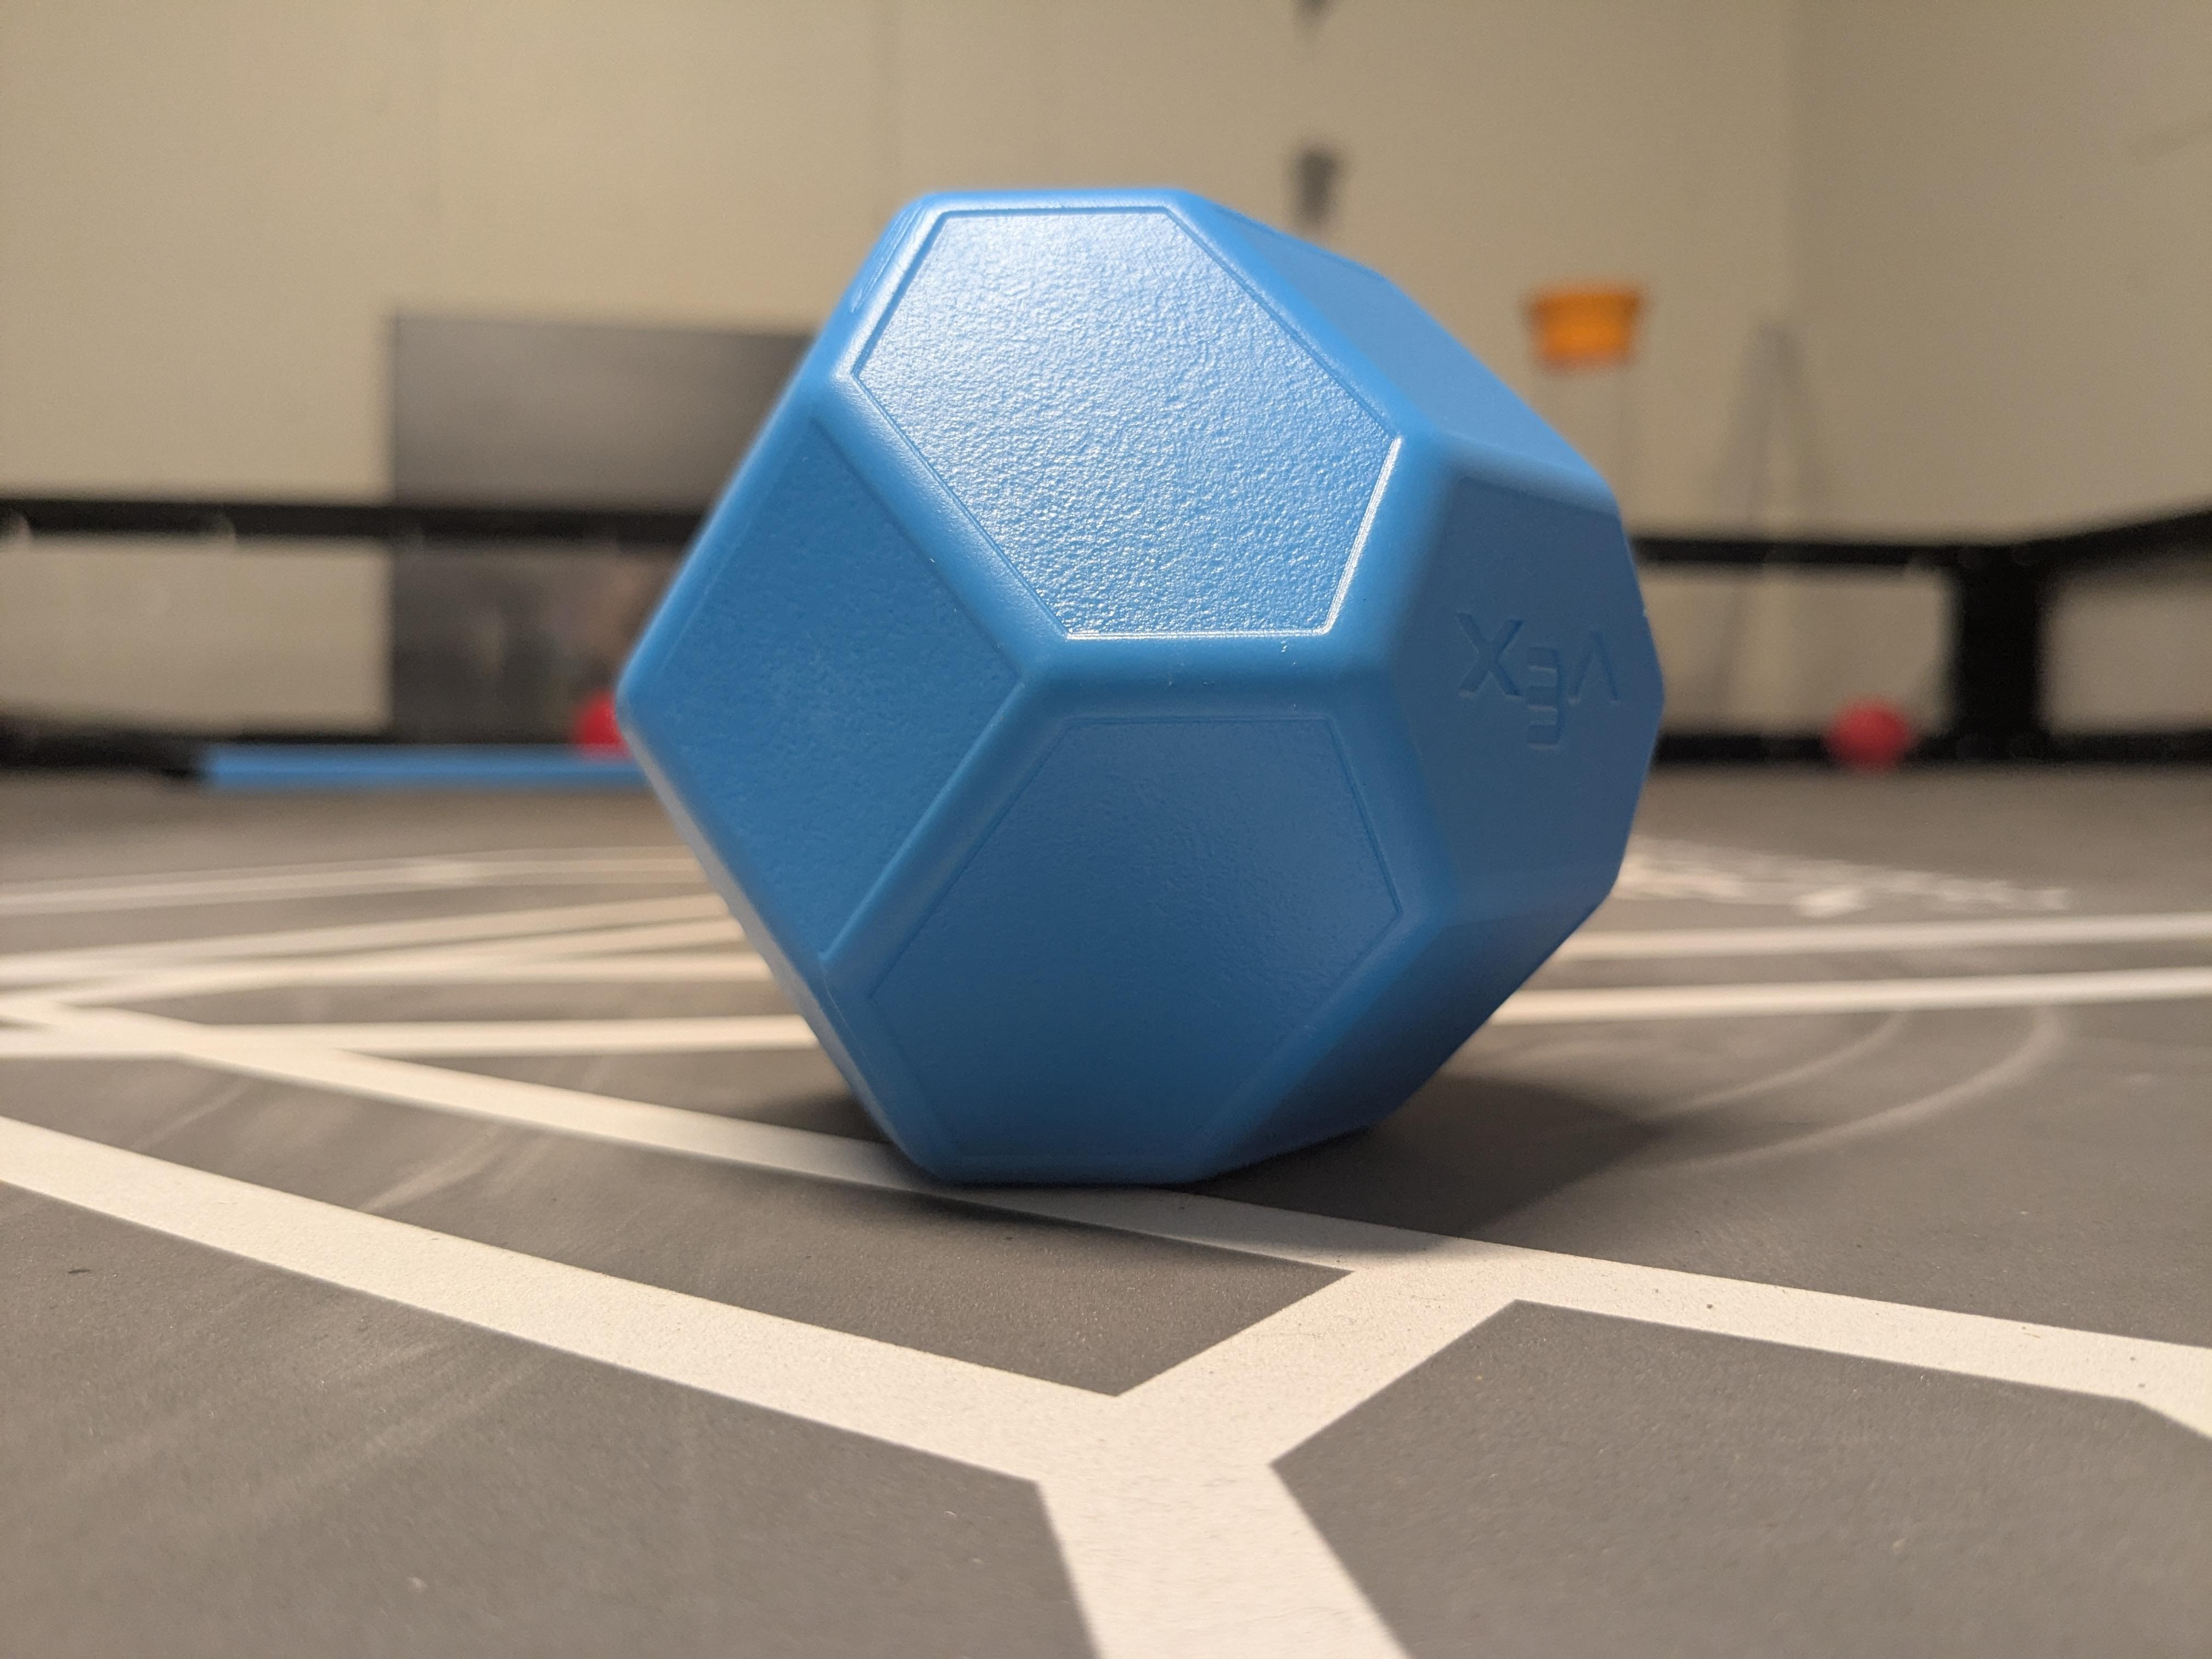Vex-Pieces-BLUE: (622, 192, 1662, 1182)
